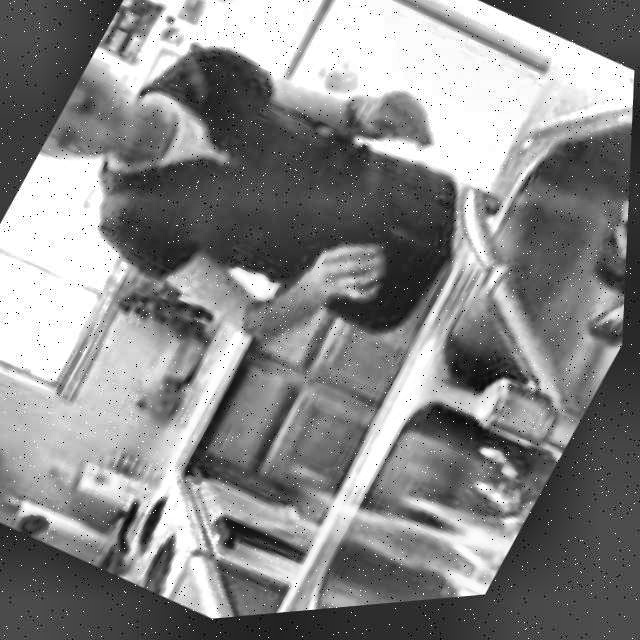Fire: (289, 425, 536, 618), (449, 435, 549, 536)
